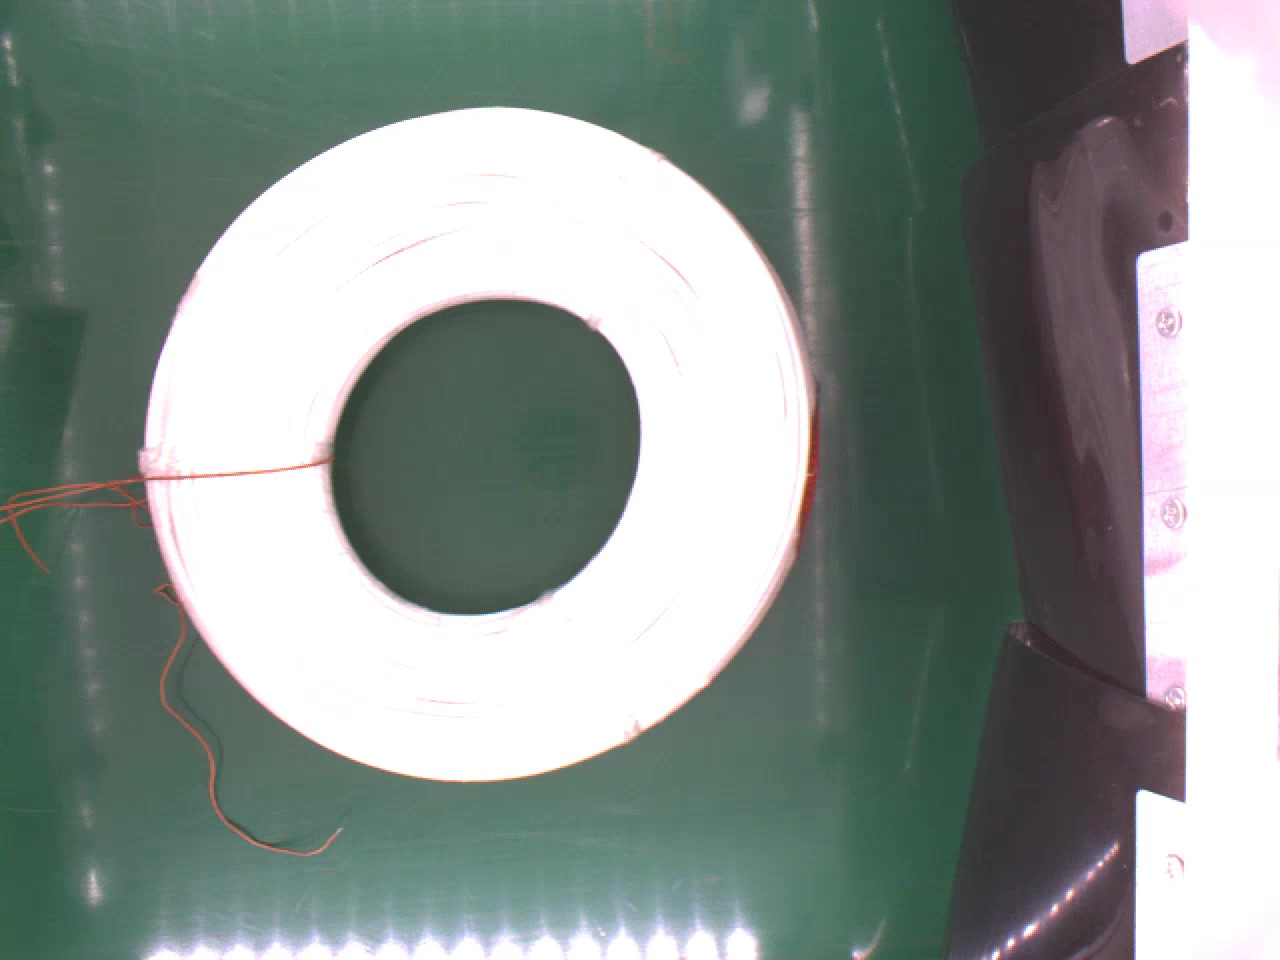white: (142, 106, 820, 778)
